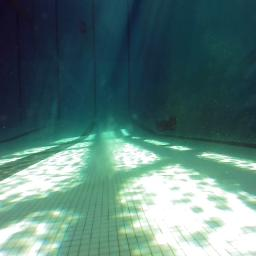Full: (78, 28, 87, 35)
front: (154, 116, 178, 133)
